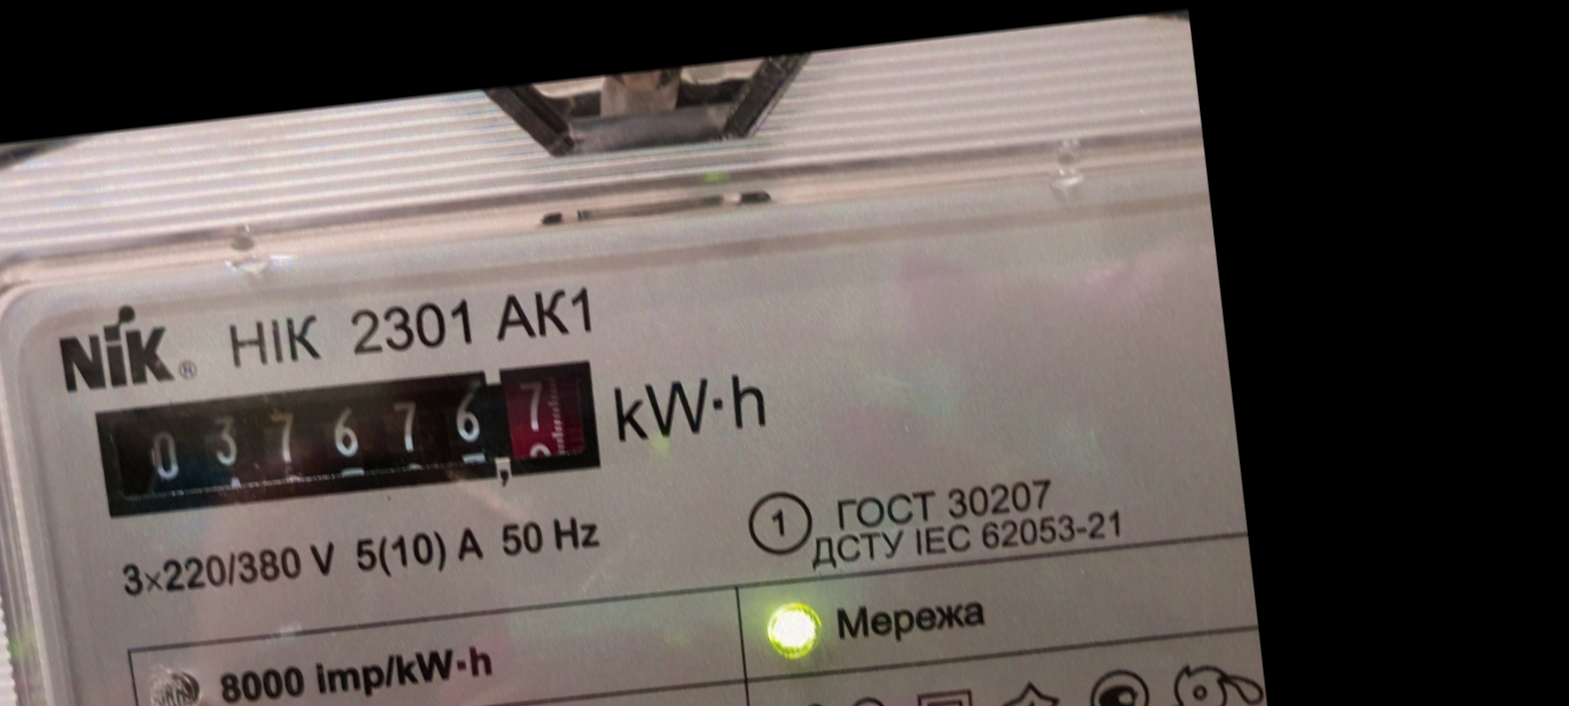0: (145, 424, 184, 482)
3: (206, 409, 240, 469)
6: (325, 401, 363, 458), (448, 386, 484, 444)
7: (387, 395, 424, 457), (264, 406, 301, 465), (515, 375, 549, 434)
screen: (77, 337, 619, 542)
